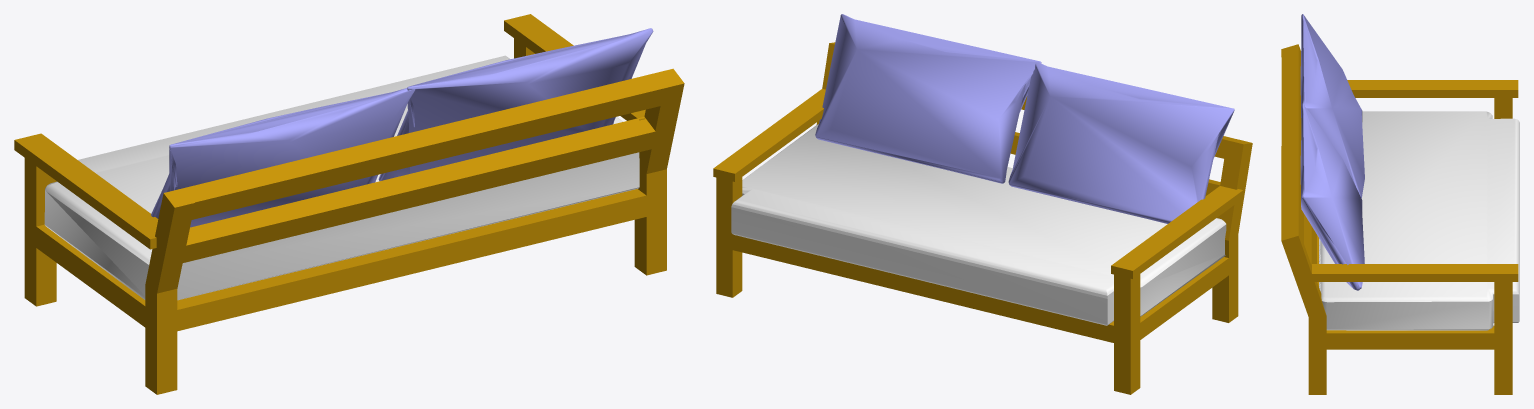
File: Sofa decimated.glb
The picture shows the model from 3 angles, left to right: view 1: azimuth 30°, elevation 25°; view 2: azimuth 150°, elevation 25°; view 3: azimuth 270°, elevation 25°; orthographic projection. The views are drawn at different scales.
Visible parts, largest first — view 1: Sofa.001; view 2: Sofa.001; view 3: Sofa.001.
Boxes of the visible parts, x1,y1,x2,y2 form: Sofa.001: (14,14,684,394); Sofa.001: (713,14,1252,394); Sofa.001: (1281,14,1519,394).
Bounding box in the file's own units: 1.9 × 0.8805 × 0.986.
